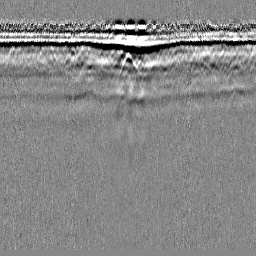cavity: (117, 52, 139, 85)
